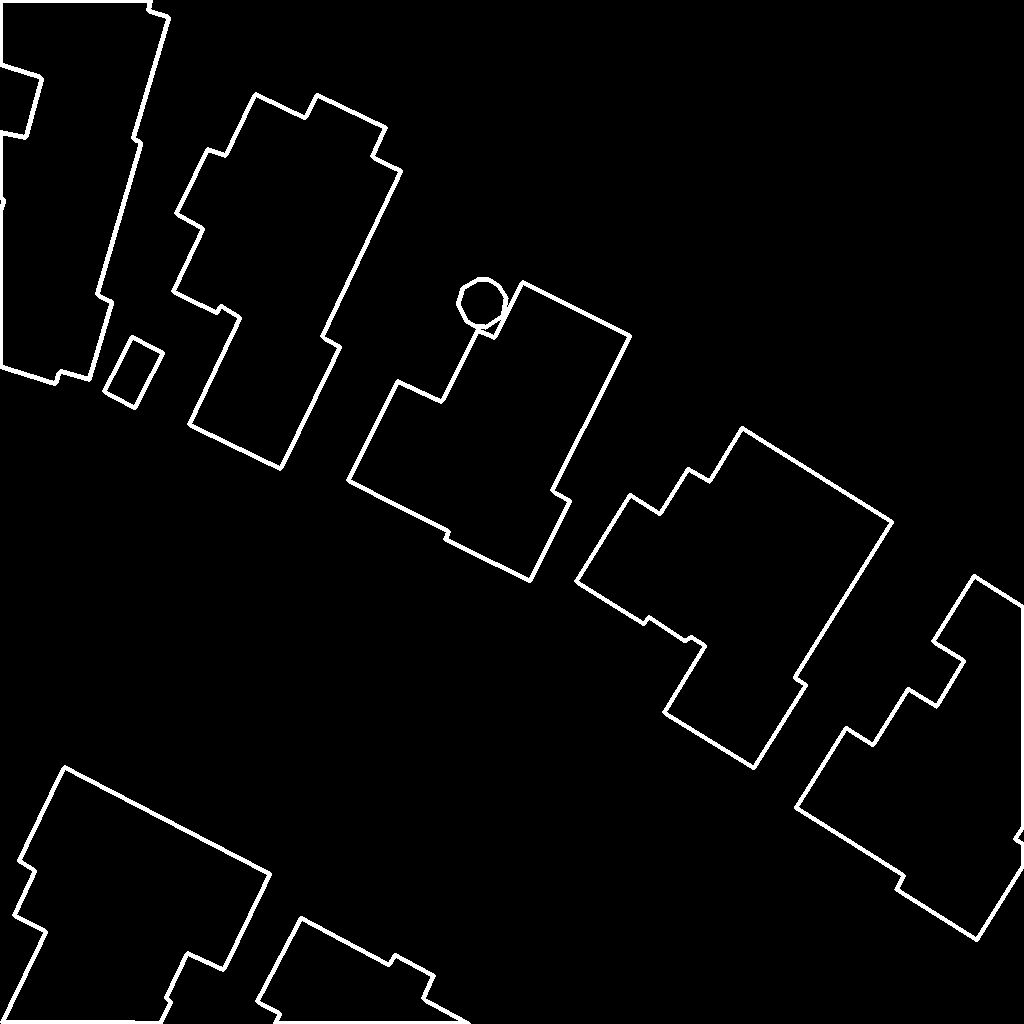building: (576, 428, 893, 769), (173, 94, 402, 470), (348, 282, 631, 582), (796, 576, 1024, 941), (2, 767, 271, 1024), (0, 0, 170, 385), (257, 918, 470, 1024), (104, 337, 164, 409), (458, 279, 507, 328)
